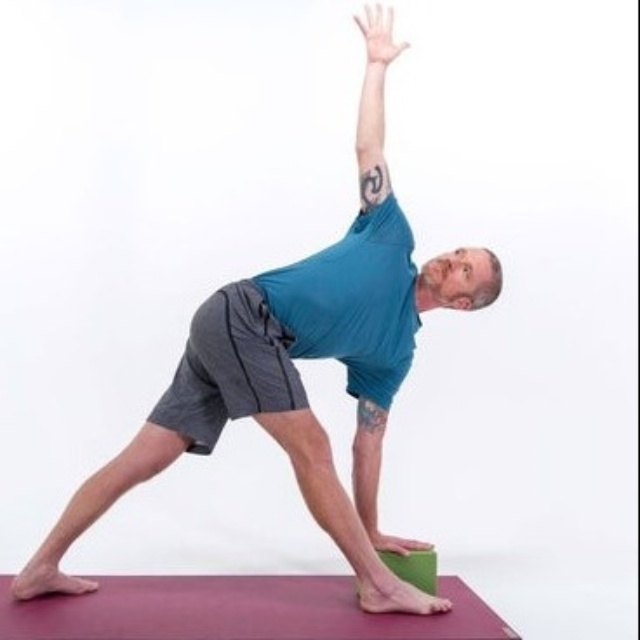Triangle_Pose: (4, 1, 543, 617)
